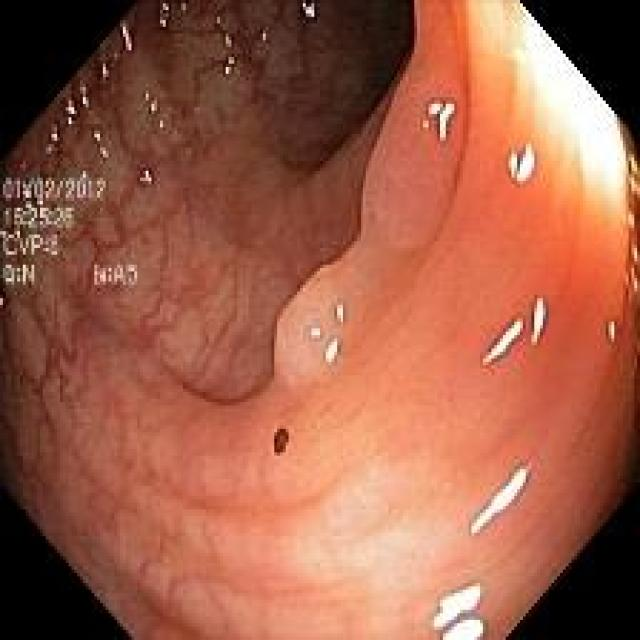Polyps: (275, 1, 469, 388)
